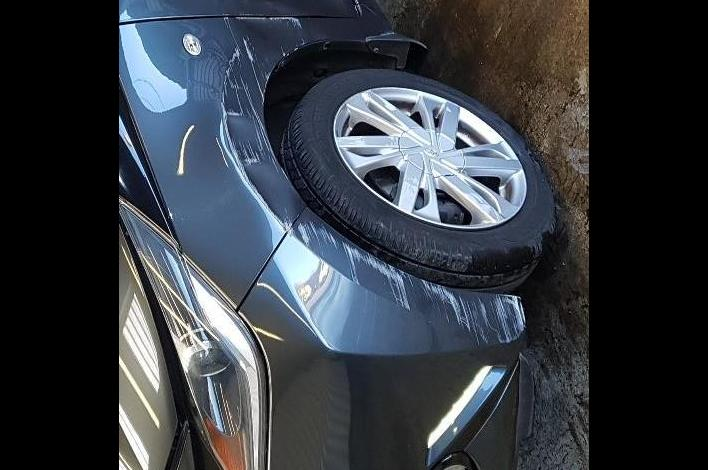Dent: (242, 160, 306, 228), (222, 15, 319, 53), (224, 112, 269, 153), (125, 0, 169, 19)
Scratch: (221, 90, 301, 230), (419, 277, 528, 347), (239, 73, 290, 180), (341, 239, 415, 311), (242, 32, 277, 107), (222, 16, 244, 116), (297, 219, 340, 258), (233, 16, 305, 30), (279, 36, 308, 58), (214, 133, 230, 168), (364, 29, 398, 41), (352, 2, 378, 16), (221, 11, 271, 15), (166, 204, 176, 222), (287, 224, 296, 236)
